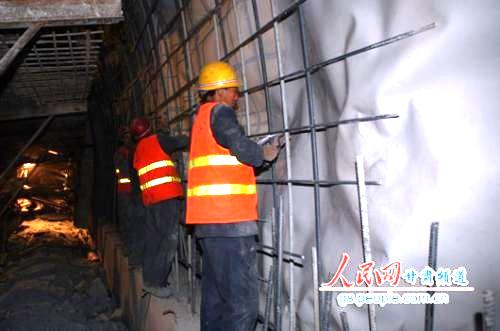helmet: (190, 60, 241, 110), (127, 117, 150, 142)
